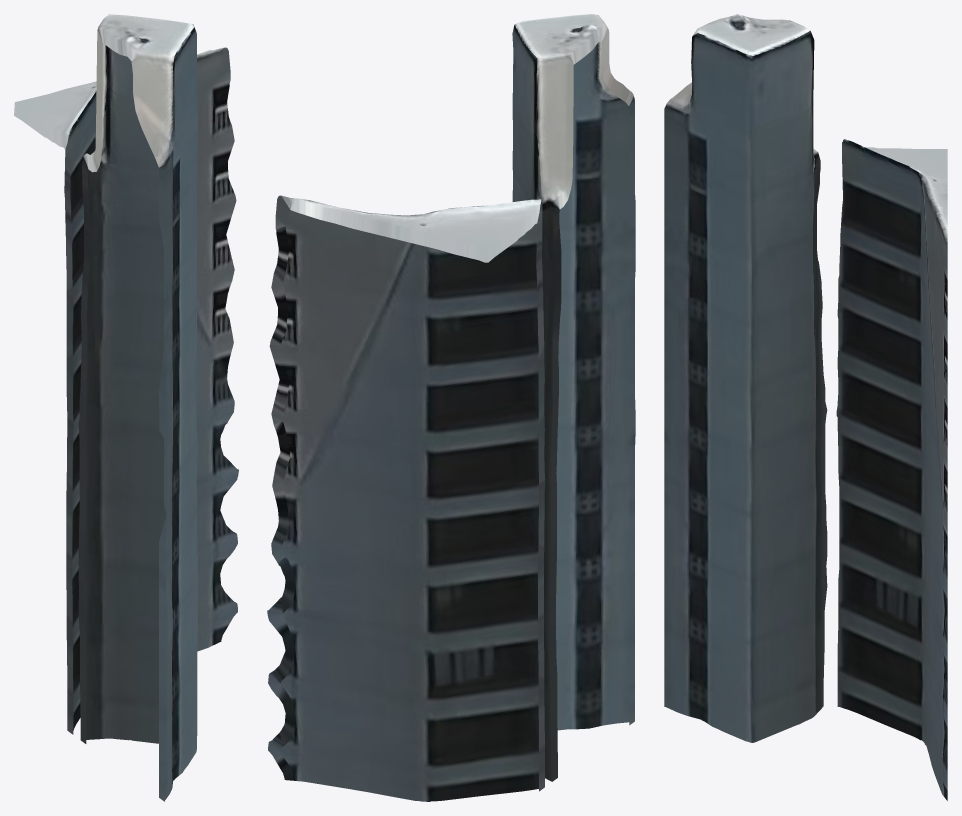
File: z20-167786-405223-h1-yup-uvflip-v3-world.glb
The picture shows the model from 3 angles, left to right: view 1: azimuth 30°, elevation 25°; view 2: azimuth 150°, elevation 25°; view 3: azimuth 270°, elevation 25°; orthographic projection. The views are drawn at different scales.
Size of the model in its own units: 10.6 by 33.12 by 12.24.
Materials: 1 (1 with a texture image).
